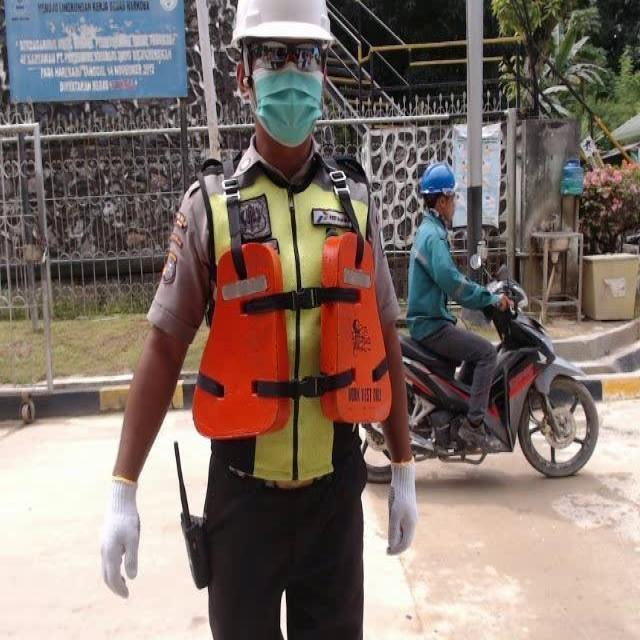Vest: (190, 227, 393, 441)
